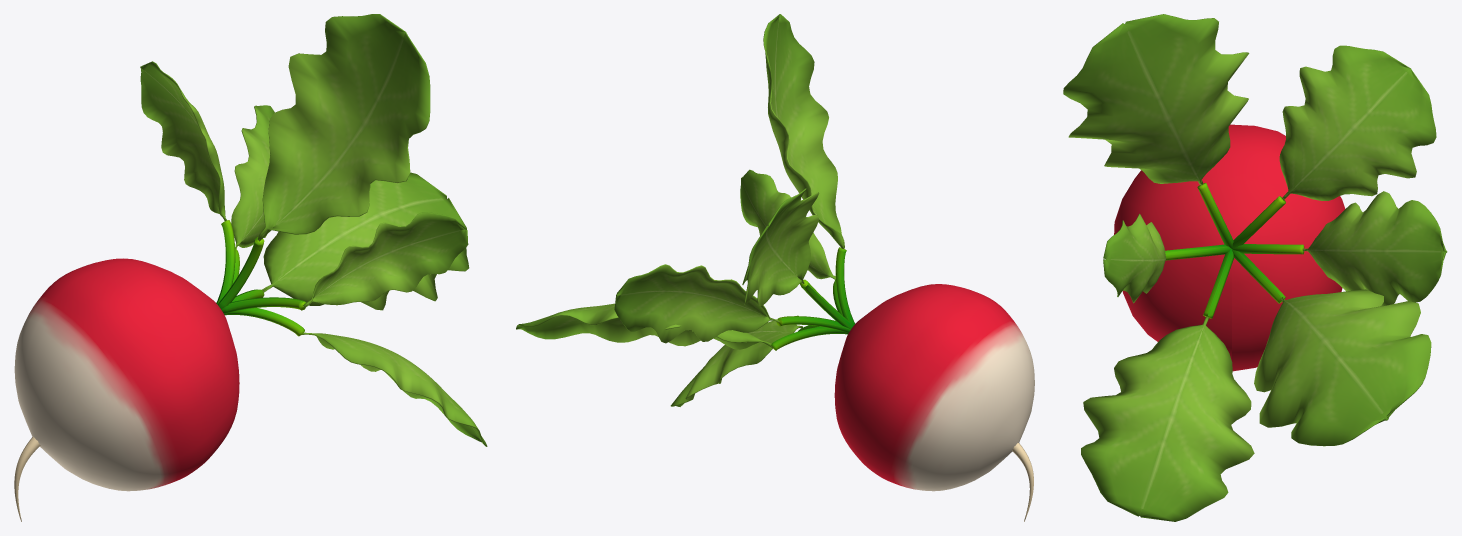
Rendered from NP_Radish_Harvest.fbx.
3 renders of one model, left to right at view 1: azimuth 30°, elevation 25°; view 2: azimuth 150°, elevation 25°; view 3: azimuth 270°, elevation 25°, orthographic. The views are drawn at different scales.
Parts seen in each view (by area): view 1: NP_Radish_Harvest; view 2: NP_Radish_Harvest; view 3: NP_Radish_Harvest.
Boxes of the visible parts, x1,y1,x2,y2 form: NP_Radish_Harvest: (14, 14, 487, 521); NP_Radish_Harvest: (516, 14, 1034, 521); NP_Radish_Harvest: (1063, 14, 1447, 521).
Bounding box in the file's own units: 89.51 × 76.35 × 56.48.
